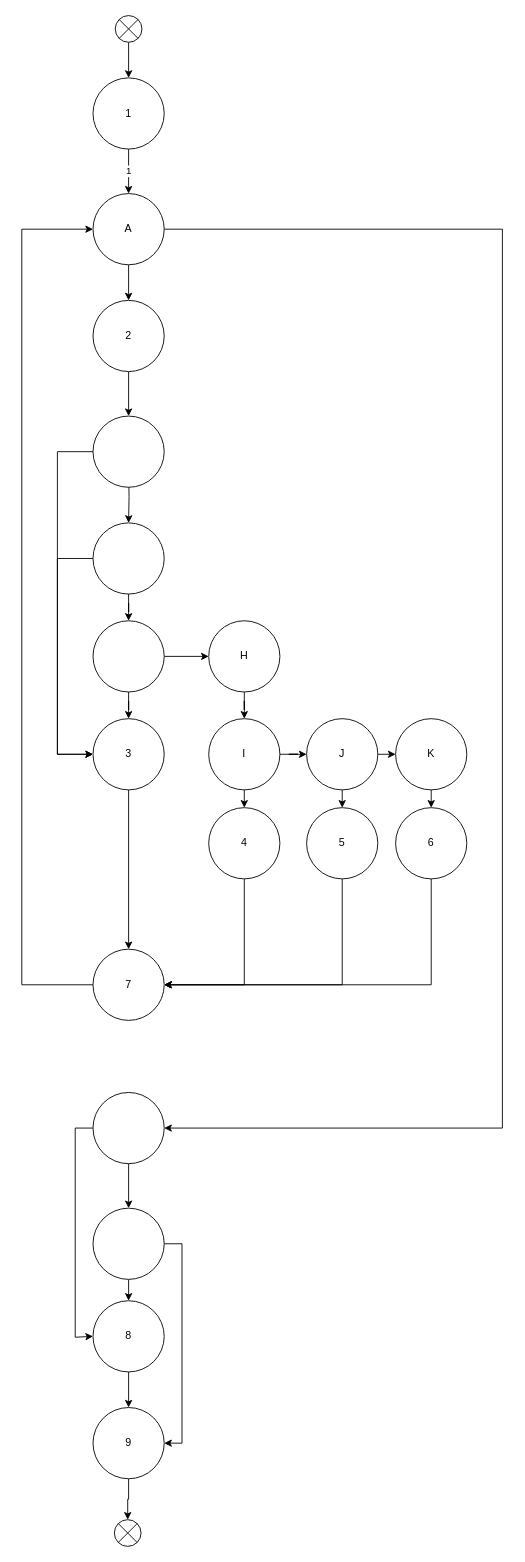
The diagram is 525 pixels wide and 1562 high, and some of its shapes have lost their labels. Each missing label, with the box of its shape:
B&C: (92, 415, 164, 487)
D&E: (92, 522, 164, 594)
F&G: (92, 620, 164, 692)
L&M&N: (92, 1092, 164, 1164)
O&P&Q: (92, 1207, 164, 1279)
